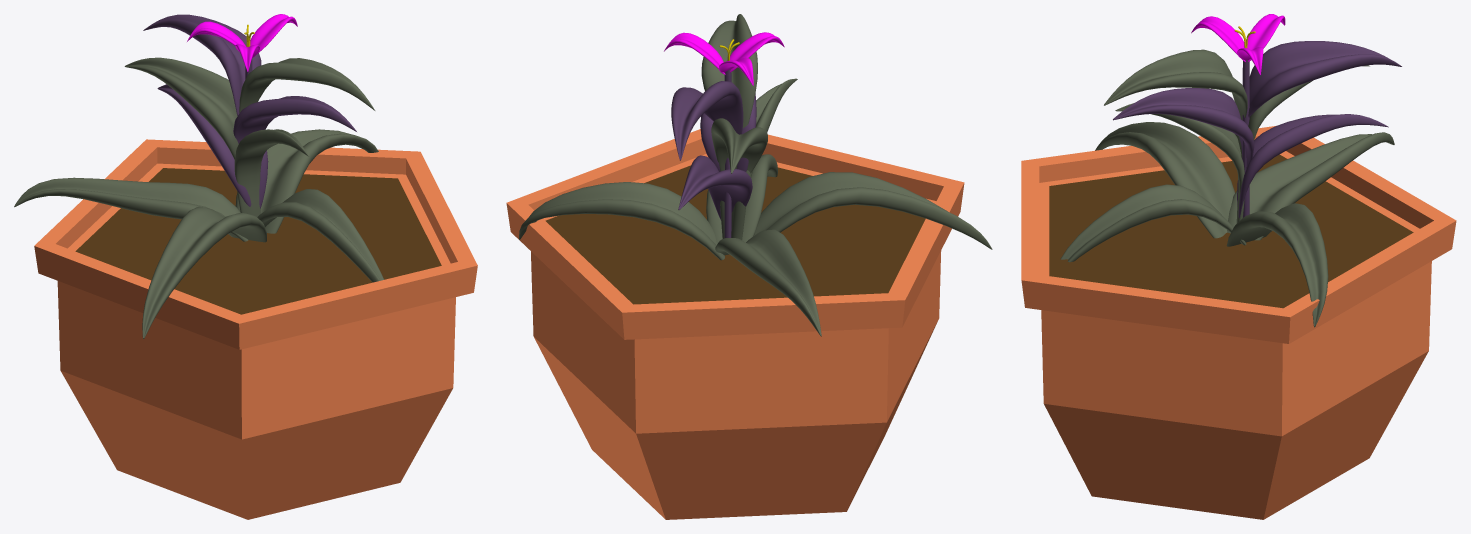
Rendered from Amor de hombre.fbx.
3 renders of one model, left to right at view 1: azimuth 30°, elevation 25°; view 2: azimuth 150°, elevation 25°; view 3: azimuth 270°, elevation 25°, orthographic. The views are drawn at different scales.
Visible parts, largest first — view 1: Cube.034; view 2: Cube.034; view 3: Cube.034.
Part boxes in pixels (x1=…): Cube.034: x1=14, y1=14, x2=477, y2=519; Cube.034: x1=506, y1=14, x2=992, y2=519; Cube.034: x1=1021, y1=14, x2=1456, y2=519.
Bounding box in the file's own units: 73.08 × 75.55 × 69.5.
